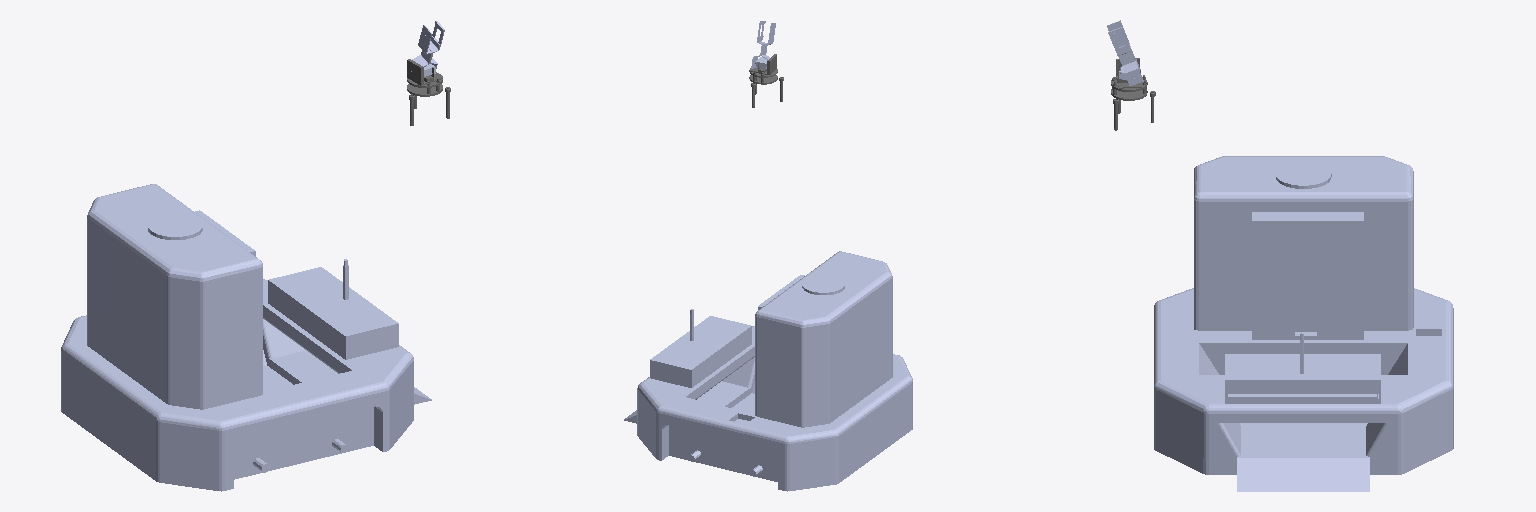
URDF robot description (bot):
<?xml version="1.0" encoding="utf-8"?>
<!-- This URDF was automatically created by SolidWorks to URDF Exporter! Originally created by [author] ([email redacted])
     Commit Version: 1.6.0-1-g15f4949  Build Version: 1.6.7594.29634
     For more information, please see http://wiki.ros.org/sw_urdf_exporter -->
<robot
  name="bot">
  <link
    name="base_link">
    <inertial>
      <origin
        xyz="0.401088991185585 -0.561832976614903 0.368816143642279"
        rpy="0 0 0" />
      <mass
        value="159.895891670044" />
      <inertia
        ixx="6.50188003696545"
        ixy="0.000775635397345515"
        ixz="0.00298539389816343"
        iyy="8.25828756096125"
        iyz="-0.109631071238321"
        izz="12.4654245059576" />
    </inertial>
    <visual>
      <origin
        xyz="0 0 0"
        rpy="0 0 0" />
      <geometry>
        <mesh
          filename="package://washroom_cleaner/meshes/base_link_bot.STL" />
      </geometry>
      <material
        name="">
        <color
          rgba="0.792156862745098 0.819607843137255 0.933333333333333 1" />
      </material>
    </visual>
    <collision>
      <origin
        xyz="0 0 0"
        rpy="0 0 0" />
      <geometry>
        <mesh
          filename="package://washroom_cleaner/meshes/base_link_bot.STL" />
      </geometry>
    </collision>
  </link>
  <link
    name="link_1">
    <inertial>
      <origin
        xyz="0.0342223057870995 0.141366635926958 0.11265991018794"
        rpy="0 0 0" />
      <mass
        value="10.1002792021682" />
      <inertia
        ixx="0.0987511119270575"
        ixy="0.00480140153344151"
        ixz="0.00307395888740887"
        iyy="0.0774794502237287"
        iyz="-0.00708037336326974"
        izz="0.0715796255243337" />
    </inertial>
    <visual>
      <origin
        xyz="0 0 0"
        rpy="0 0 0" />
      <geometry>
        <mesh
          filename="package://washroom_cleaner/meshes/link_1_bot.STL" />
      </geometry>
      <material
        name="">
        <color
          rgba="0.250980392156863 0.250980392156863 0.250980392156863 1" />
      </material>
    </visual>
    <collision>
      <origin
        xyz="0 0 0"
        rpy="0 0 0" />
      <geometry>
        <mesh
          filename="package://washroom_cleaner/meshes/link_1_bot.STL" />
      </geometry>
    </collision>
  </link>
  <joint
    name="joint_1"
    type="fixed">
    <origin
      xyz="0.27699 -0.62513 0.49989"
      rpy="-1.5708 -0.34065 -1.5708" />
    <parent
      link="base_link" />
    <child
      link="link_1" />
    <axis
      xyz="0 0 0" />
  </joint>
  <link
    name="link_1.2">
    <inertial>
      <origin
        xyz="-0.00569775204612699 -0.000106009865184165 0.020727295078773"
        rpy="0 0 0" />
      <mass
        value="0.18680699175307" />
      <inertia
        ixx="0.000108467851437745"
        ixy="-2.78967323592214E-08"
        ixz="1.08518099809947E-05"
        iyy="0.00011209386427989"
        iyz="1.95890491741231E-08"
        izz="0.000150903701204828" />
    </inertial>
    <visual>
      <origin
        xyz="0 0 0"
        rpy="0 0 0" />
      <geometry>
        <mesh
          filename="package://washroom_cleaner/meshes/link_1.2_bot.STL" />
      </geometry>
      <material
        name="">
        <color
          rgba="0.501960784313725 0.501960784313725 0.501960784313725 1" />
      </material>
    </visual>
    <collision>
      <origin
        xyz="0 0 0"
        rpy="0 0 0" />
      <geometry>
        <mesh
          filename="package://washroom_cleaner/meshes/link_1.2_bot.STL" />
      </geometry>
    </collision>
  </link>
  <joint
    name="joint_1.2"
    type="revolute">
    <origin
      xyz="-0.02917 -0.39539 0.12422"
      rpy="-1.5708 -1.4713 -2.8009" />
    <parent
      link="link_1" />
    <child
      link="link_1.2" />
    <axis
      xyz="0 0 1" />
    <limit
      lower="3.14"
      upper="0"
      effort="0"
      velocity="0" />
  </joint>
  <link
    name="link_1.2.1">
    <inertial>
      <origin
        xyz="0.0580655494615208 0.0013300729572176 0.0142754823090114"
        rpy="0 0 0" />
      <mass
        value="0.083649973397503" />
      <inertia
        ixx="2.13379078089922E-05"
        ixy="1.43500733218594E-06"
        ixz="1.41338643742856E-06"
        iyy="0.000109256671317035"
        iyz="-3.43509398476208E-08"
        izz="0.000107189795764206" />
    </inertial>
    <visual>
      <origin
        xyz="0 0 0"
        rpy="0 0 0" />
      <geometry>
        <mesh
          filename="package://washroom_cleaner/meshes/link_1.2.1_bot.STL" />
      </geometry>
      <material
        name="">
        <color
          rgba="0.792156862745098 0.819607843137255 0.933333333333333 1" />
      </material>
    </visual>
    <collision>
      <origin
        xyz="0 0 0"
        rpy="0 0 0" />
      <geometry>
        <mesh
          filename="package://washroom_cleaner/meshes/link_1.2.1_bot.STL" />
      </geometry>
    </collision>
  </link>
  <joint
    name="joint_1.2.1"
    type="revolute">
    <origin
      xyz="0 0 0.0336947346461056"
      rpy="0 -1.22173047639603 -1.5707963267949" />
    <parent
      link="link_1.2" />
    <child
      link="link_1.2.1" />
    <axis
      xyz="0.939692620785907 0 0.342020143325673" />
    <limit
      lower="3.14"
      upper="0"
      effort="0"
      velocity="0" />
  </joint>
  <link
    name="link_1.2.1-2">
    <inertial>
      <origin
        xyz="-0.129120759127459 -0.000969520216186681 -0.014695438196705"
        rpy="0 0 0" />
      <mass
        value="0.0550083133869526" />
      <inertia
        ixx="8.1609204141315E-06"
        ixy="-2.86720652645581E-19"
        ixz="1.23719749858331E-19"
        iyy="0.000214945524527617"
        iyz="1.18584612615602E-20"
        izz="0.000220874250417479" />
    </inertial>
    <visual>
      <origin
        xyz="0 0 0"
        rpy="0 0 0" />
      <geometry>
        <mesh
          filename="package://washroom_cleaner/meshes/link_1.2.1-2_bot.STL" />
      </geometry>
      <material
        name="">
        <color
          rgba="0.792156862745098 0.819607843137255 0.933333333333333 1" />
      </material>
    </visual>
    <collision>
      <origin
        xyz="0 0 0"
        rpy="0 0 0" />
      <geometry>
        <mesh
          filename="package://washroom_cleaner/meshes/link_1.2.1-2_bot.STL" />
      </geometry>
    </collision>
  </link>
  <joint
    name="joint_1.2.1-2"
    type="revolute">
    <origin
      xyz="0.102177334598959 0 0.0371895084106796"
      rpy="-1.5707963267949 -0.414898179979398 -3.14159265358979" />
    <parent
      link="link_1.2.1" />
    <child
      link="link_1.2.1-2" />
    <axis
      xyz="0.72209941749505 0.691789296862353 0" />
    <limit
      lower="3.14"
      upper="0"
      effort="0"
      velocity="0" />
  </joint>
  <link
    name="Link">
    <inertial>
      <origin
        xyz="0.187048315606571 0.0201228496753146 -0.124647198388031"
        rpy="0 0 0" />
      <mass
        value="0.158326205342065" />
      <inertia
        ixx="3.46195149015416E-05"
        ixy="-1.68893148018066E-07"
        ixz="-2.7533004565103E-07"
        iyy="3.1703173224957E-05"
        iyz="-2.95285123650717E-07"
        izz="3.89884403632016E-05" />
    </inertial>
    <visual>
      <origin
        xyz="0 0 0"
        rpy="0 0 0" />
      <geometry>
        <mesh
          filename="package://washroom_cleaner/meshes/Link_bot.STL" />
      </geometry>
      <material
        name="">
        <color
          rgba="0 0 0 1" />
      </material>
    </visual>
    <collision>
      <origin
        xyz="0 0 0"
        rpy="0 0 0" />
      <geometry>
        <mesh
          filename="package://washroom_cleaner/meshes/Link_bot.STL" />
      </geometry>
    </collision>
  </link>
  <joint
    name="joint"
    type="fixed">
    <origin
      xyz="-0.0952067740222446 -0.0912104700012903 0"
      rpy="-1.5707963267949 0 -3.14159265358979" />
    <parent
      link="link_1.2.1-2" />
    <child
      link="Link" />
    <axis
      xyz="0 0 0" />
  </joint>
  <link
    name="link_2">
    <inertial>
      <origin
        xyz="0.0333060889298056 0.00500000000000006 0.00579000047397271"
        rpy="0 0 0" />
      <mass
        value="0.136953822245057" />
      <inertia
        ixx="3.69621143382842E-05"
        ixy="-1.25214812715429E-21"
        ixz="-4.785757193581E-05"
        iyy="0.000433760500277558"
        iyz="-6.00944577192131E-23"
        izz="0.000399080949643358" />
    </inertial>
    <visual>
      <origin
        xyz="0 0 0"
        rpy="0 0 0" />
      <geometry>
        <mesh
          filename="package://washroom_cleaner/meshes/link_2_bot.STL" />
      </geometry>
      <material
        name="">
        <color
          rgba="0.792156862745098 0.819607843137255 0.933333333333333 1" />
      </material>
    </visual>
    <collision>
      <origin
        xyz="0 0 0"
        rpy="0 0 0" />
      <geometry>
        <mesh
          filename="package://washroom_cleaner/meshes/link_2_bot.STL" />
      </geometry>
    </collision>
  </link>
  <joint
    name="joint_2"
    type="revolute">
    <origin
      xyz="0.363706791161561 -0.963737093432126 0.369809702352455"
      rpy="1.5707963267949 0 0.0721063954480359" />
    <parent
      link="base_link" />
    <child
      link="link_2" />
    <axis
      xyz="0 1 0" />
    <limit
      lower="3.14"
      upper="0"
      effort="0"
      velocity="0" />
  </joint>
  <link
    name="link_2.1">
    <inertial>
      <origin
        xyz="-0.159302367714983 -0.121667828083279 0.191496939311499"
        rpy="0 0 0" />
      <mass
        value="4.885769452176" />
      <inertia
        ixx="0.0182504857476174"
        ixy="-0.00308030713845039"
        ixz="8.43868314392734E-05"
        iyy="0.0164743625405019"
        iyz="4.81030455262835E-05"
        izz="0.0226935778071188" />
    </inertial>
    <visual>
      <origin
        xyz="0 0 0"
        rpy="0 0 0" />
      <geometry>
        <mesh
          filename="package://washroom_cleaner/meshes/link_2.1_bot.STL" />
      </geometry>
      <material
        name="">
        <color
          rgba="1 0.501960784313725 0.501960784313725 1" />
      </material>
    </visual>
    <collision>
      <origin
        xyz="0 0 0"
        rpy="0 0 0" />
      <geometry>
        <mesh
          filename="package://washroom_cleaner/meshes/link_2.1_bot.STL" />
      </geometry>
    </collision>
  </link>
  <joint
    name="joint_2.1"
    type="fixed">
    <origin
      xyz="-0.164114522451131 -0.01 0.137058948749274"
      rpy="0 1.49067939023891 0" />
    <parent
      link="link_2" />
    <child
      link="link_2.1" />
    <axis
      xyz="0 0 0" />
    <limit
      lower="3.14"
      upper="0"
      effort="0"
      velocity="0" />
  </joint>
</robot>

--- Facts derived from the render (not from the file) ---
Views: 3 orthographic renders of the robot side by side, from view 1: azimuth 30°, elevation 25°; view 2: azimuth 150°, elevation 25°; view 3: azimuth 270°, elevation 25°.
Robot: bot — 8 links, 7 joints (4 revolute, 3 fixed); root link base_link; default pose: every joint at zero.
Visible links, largest first — view 1: base_link, link_1.2, link_1.2.1; view 2: base_link, link_1.2; view 3: base_link, link_1.2.1, link_1.2.
Link boxes in pixels (left/top/right/bottom): base_link: left=61, top=184, right=431, bottom=491; link_1.2: left=407, top=59, right=450, bottom=125; link_1.2.1: left=412, top=21, right=444, bottom=76; base_link: left=624, top=251, right=912, bottom=491; link_1.2: left=749, top=54, right=783, bottom=107; base_link: left=1154, top=156, right=1453, bottom=491; link_1.2.1: left=1107, top=20, right=1143, bottom=85; link_1.2: left=1111, top=58, right=1155, bottom=130.
Bounding box of the posed robot: 0.9037 × 0.9259 × 1.32 m (x, y, z).
Meshes: 8 distinct files referenced, 3 mesh visuals loaded (3 binary STL); not drawn: 5 (reference not matched to a file when rendering).